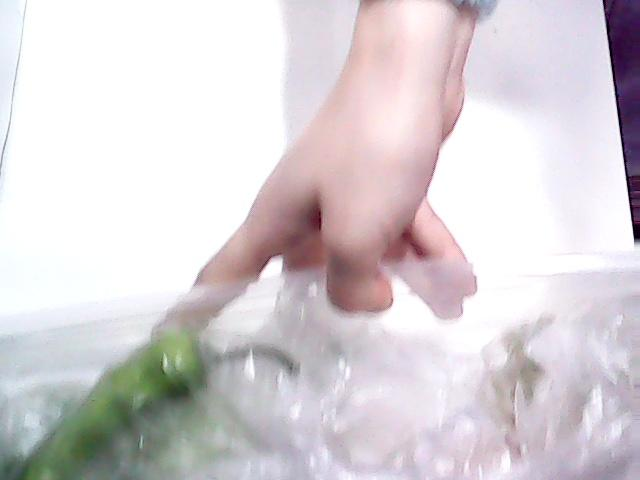pepper: (0, 328, 252, 479)
